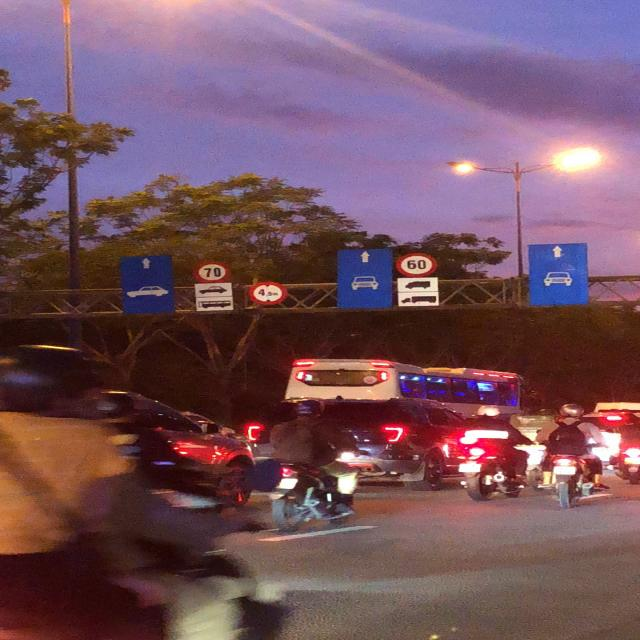Bien bao han che chieu cao: (245, 278, 287, 307)
Bien bao toc do toi da cho phep: (394, 248, 442, 279), (190, 259, 232, 285)
